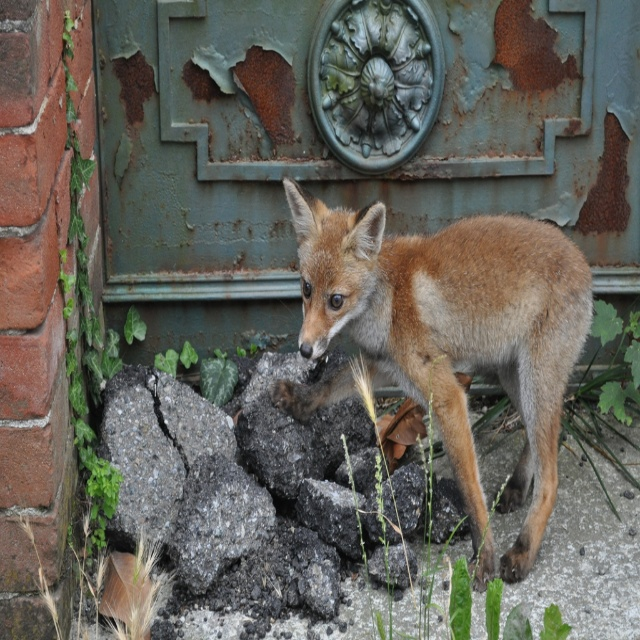Fox: (282, 176, 597, 593)
